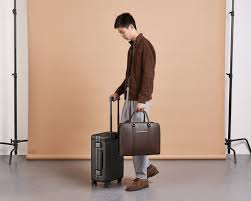suitcase: (90, 95, 125, 192)
